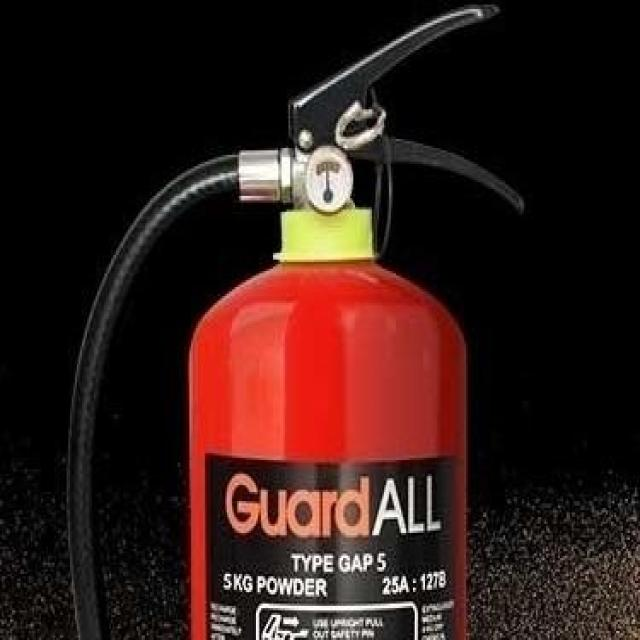fire_extinguisher: (56, 0, 529, 638)
